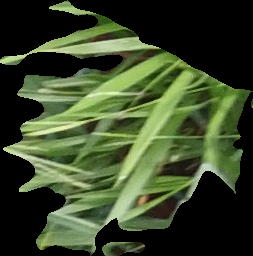grass: (1, 1, 250, 255)
